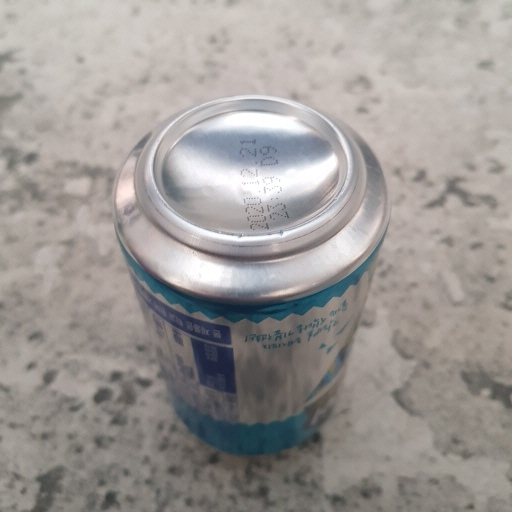Metal_0: (111, 94, 390, 458)
